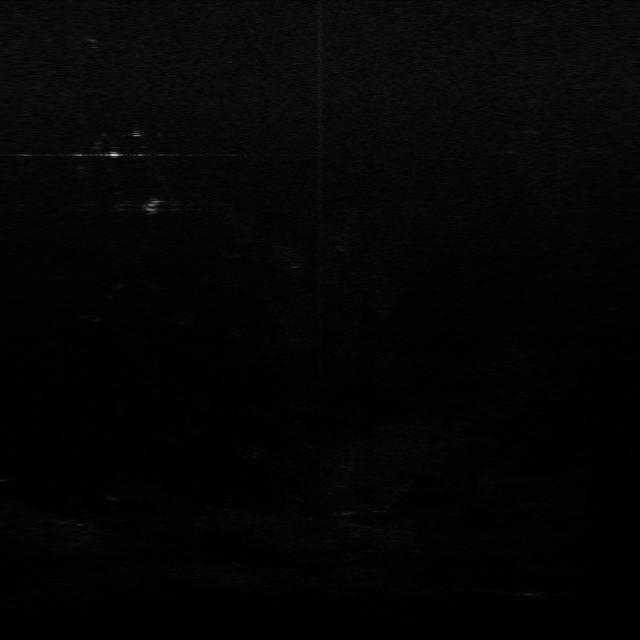rov: (140, 196, 166, 216)
